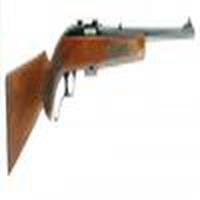gun: (3, 15, 200, 174)
